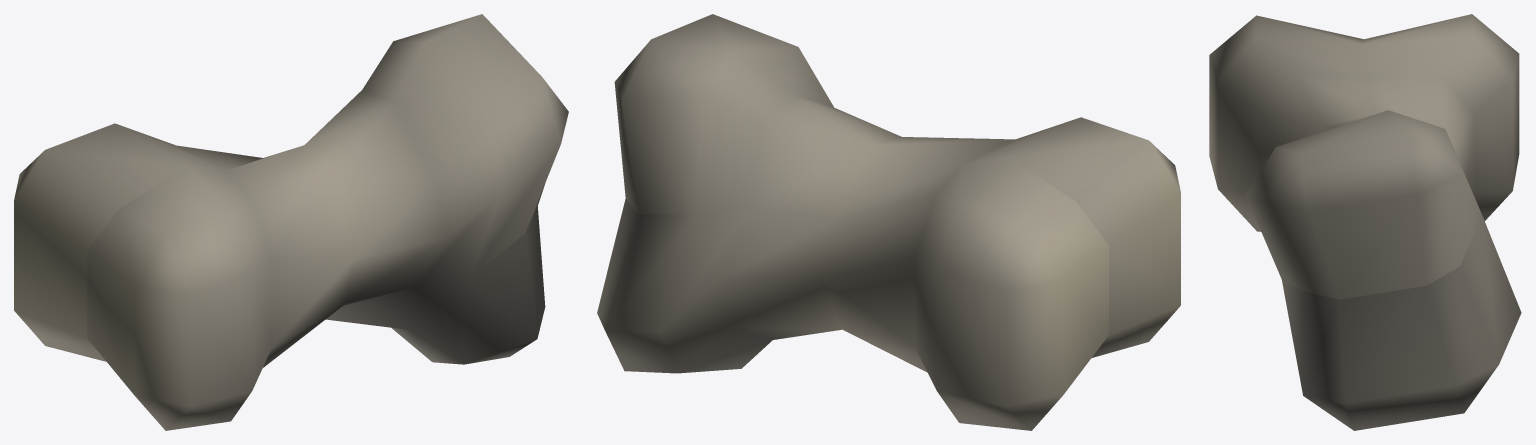
Rendered from deco_bone_1.fbx.
3 renders of one model, left to right at view 1: azimuth 30°, elevation 25°; view 2: azimuth 150°, elevation 25°; view 3: azimuth 270°, elevation 25°, orthographic. The views are drawn at different scales.
Visible parts, largest first — view 1: deco_bone_1; view 2: deco_bone_1; view 3: deco_bone_1.
Boxes of the visible parts, x1,y1,x2,y2 form: deco_bone_1: [14, 14, 568, 430]; deco_bone_1: [597, 14, 1180, 430]; deco_bone_1: [1209, 14, 1521, 430].
Size of the model in its own units: 43.82 by 28.73 by 27.64.
